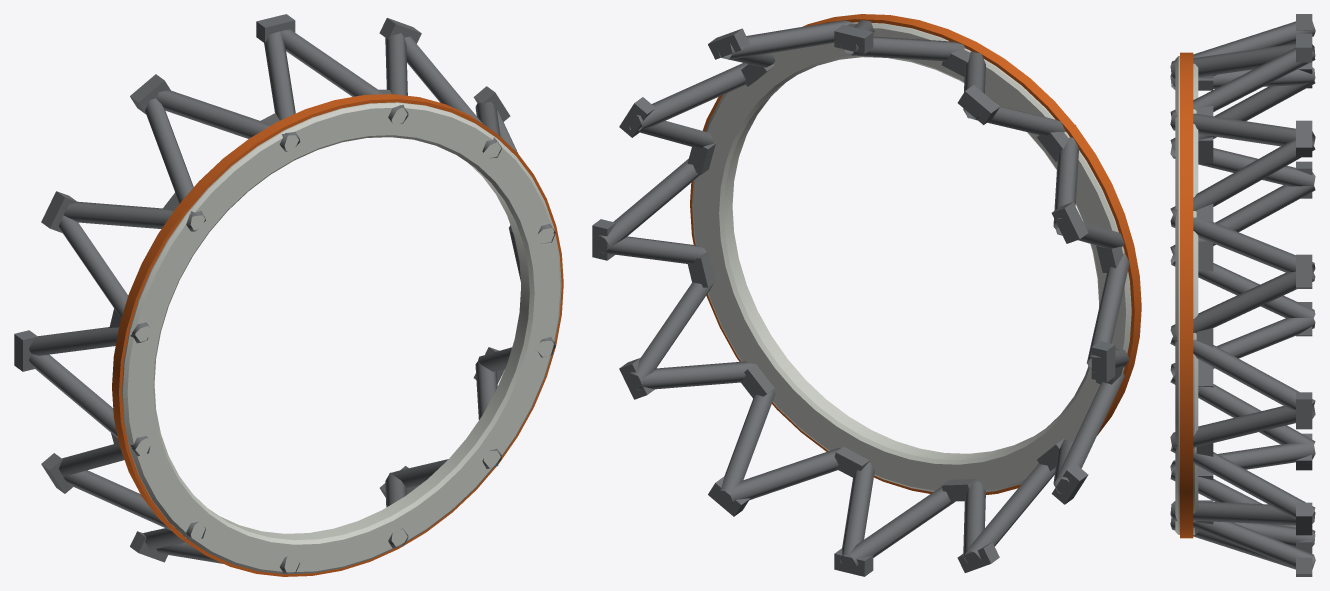
File: u70_interstage.obj
3 views of the same model, side by side, from view 1: azimuth 30°, elevation 25°; view 2: azimuth 150°, elevation 25°; view 3: azimuth 270°, elevation 25° (orthographic). The views are drawn at different scales.
Parts seen in each view (by area): view 1: u70_interstage; view 2: u70_interstage; view 3: u70_interstage.
Boxes of the visible parts, x1,y1,x2,y2 form: u70_interstage: (14, 14, 563, 576); u70_interstage: (592, 14, 1141, 576); u70_interstage: (1170, 14, 1315, 576).
Bounding box in the file's own units: 3.4 × 3.4 × 0.8783.
